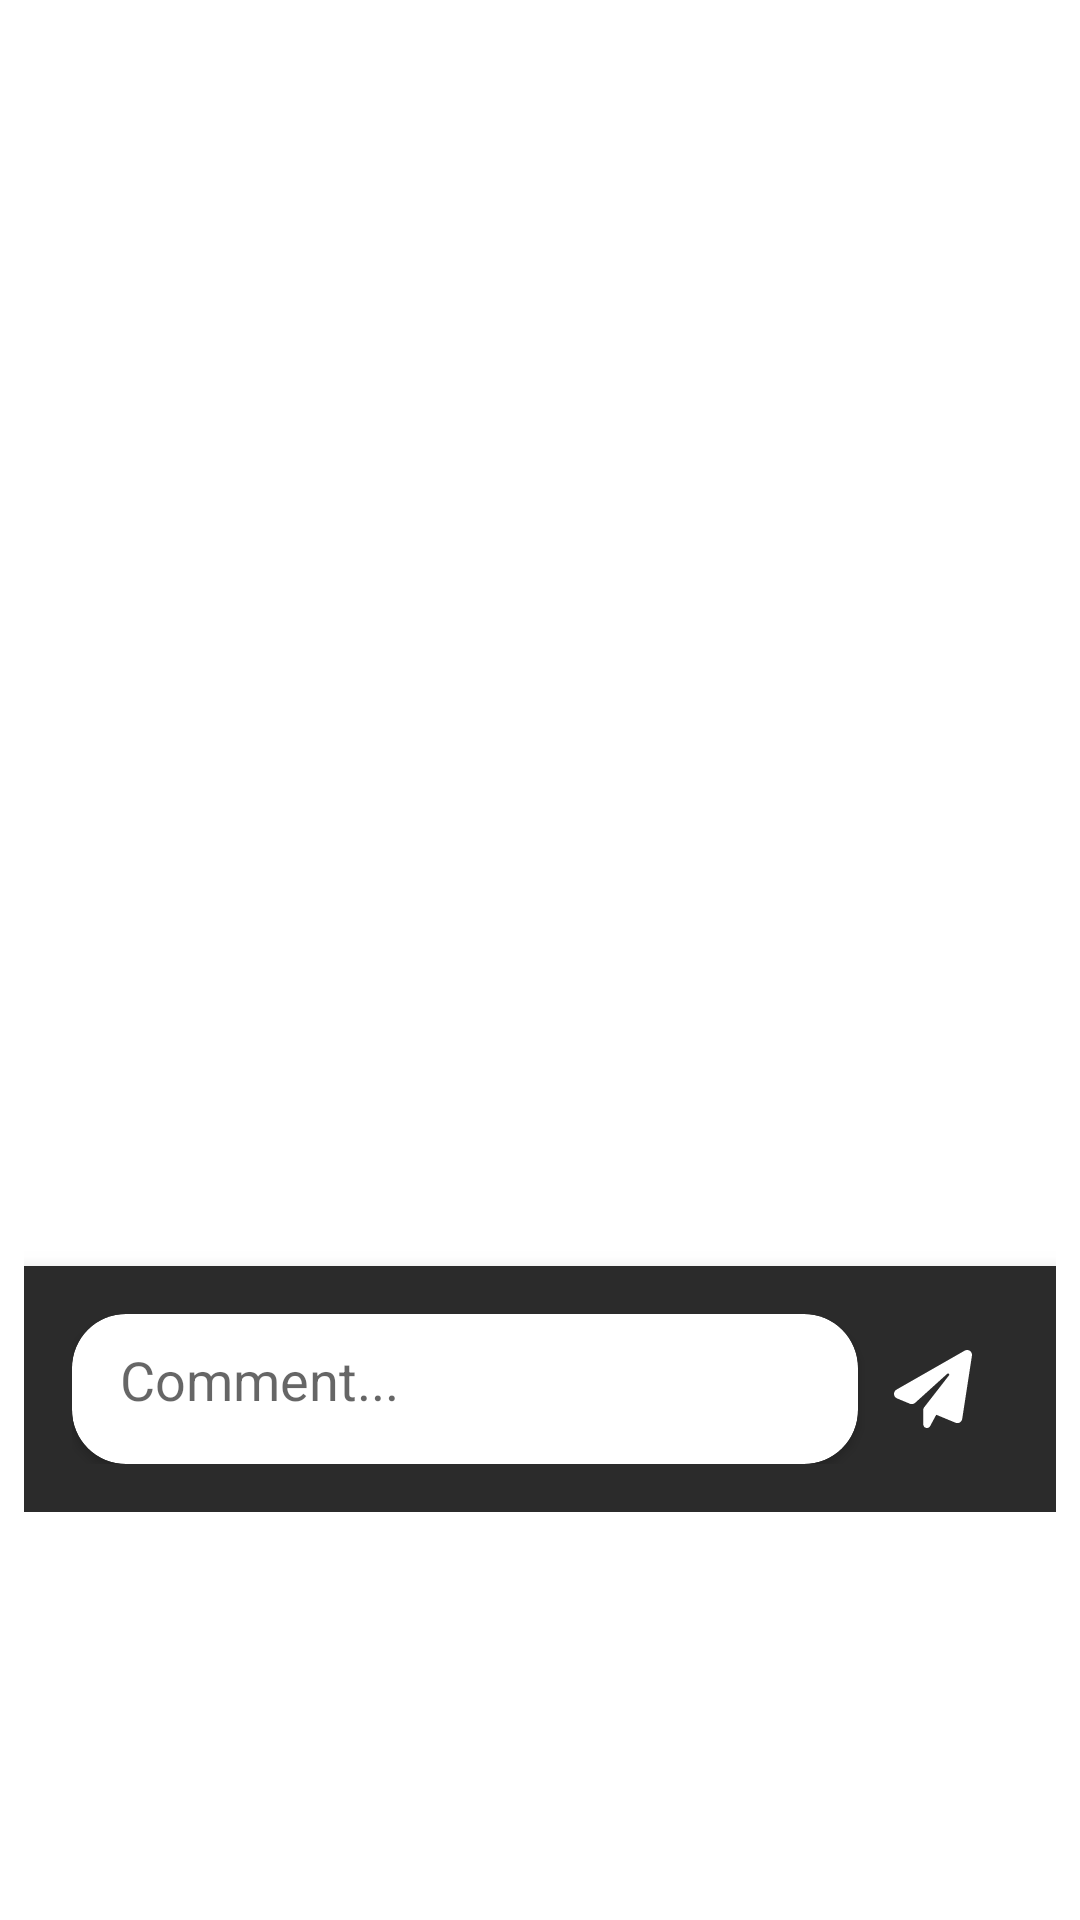

Screen size 1080 x 1920. Icon name, then its box in pixels as (x1, y1, x2, y2):
send: (894, 1350, 972, 1428)
